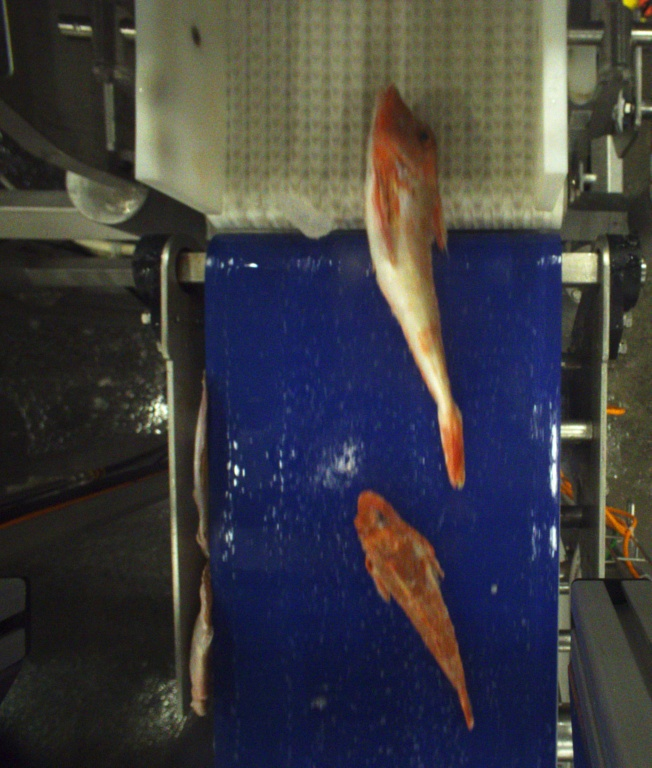GUU: (368, 84, 469, 491)
